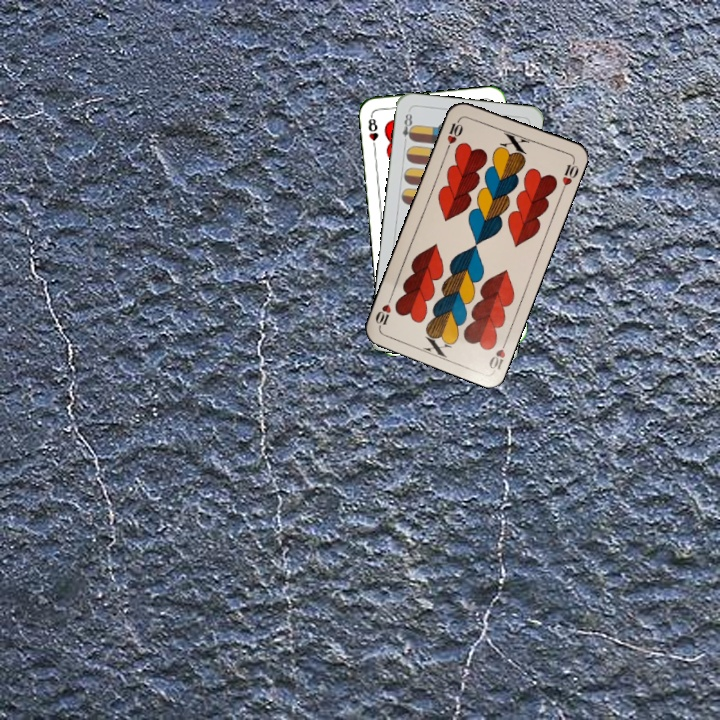E8: (398, 109, 417, 148)
H10: (485, 334, 510, 374), (442, 114, 466, 153)
H8: (364, 112, 381, 152)
